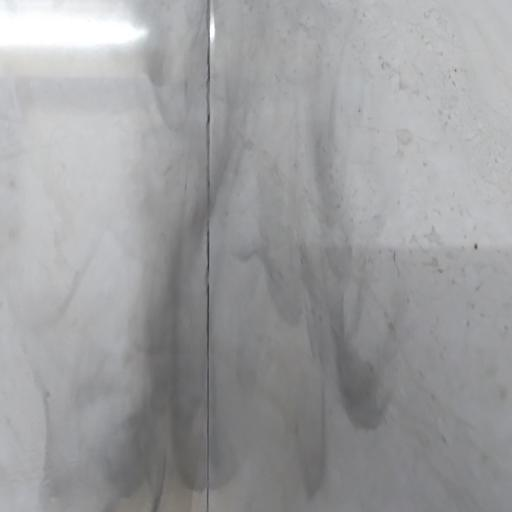stain: (87, 15, 468, 512)
